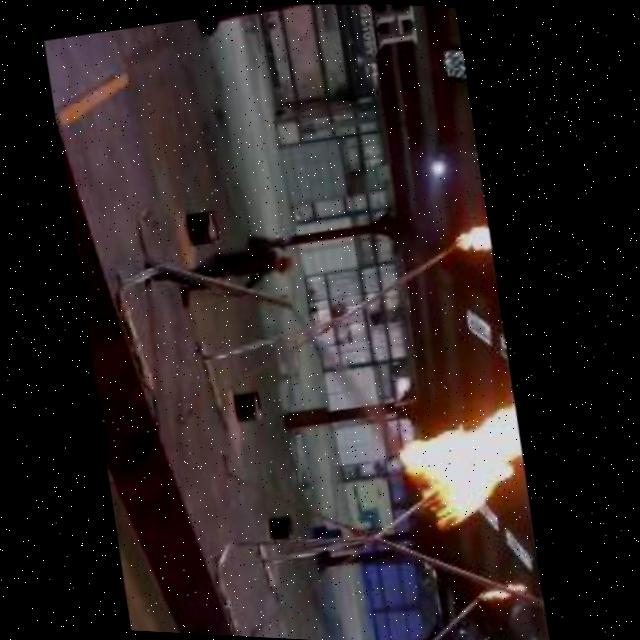fire: (391, 393, 542, 550), (457, 218, 495, 260), (484, 578, 533, 607)
